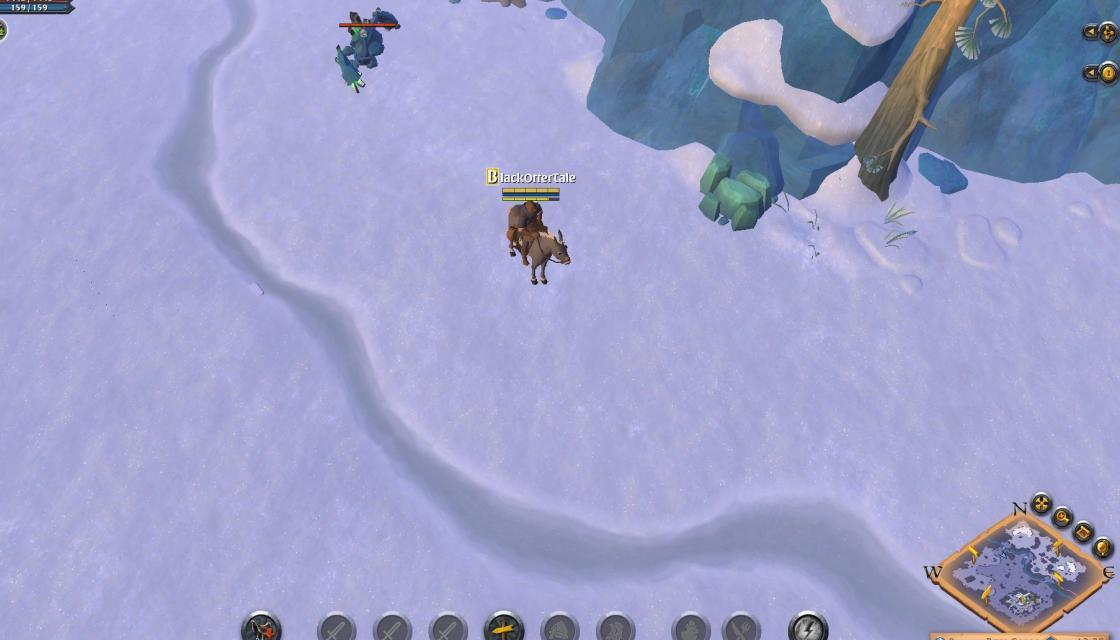sandstone: (696, 146, 772, 232)
